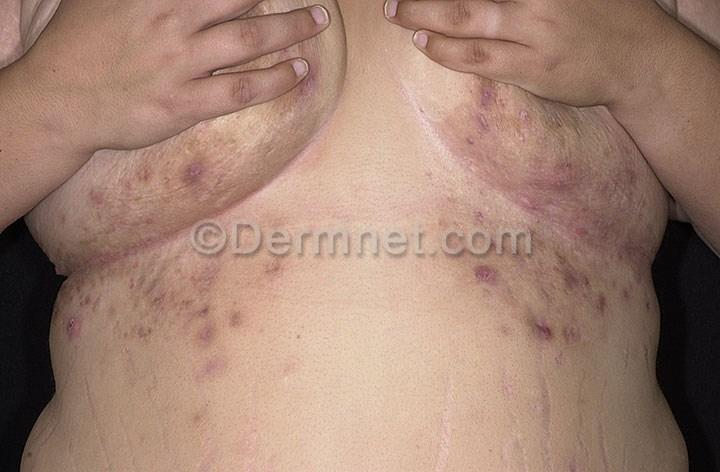Acne: (84, 287, 234, 401), (467, 221, 585, 364), (557, 119, 667, 257), (472, 101, 565, 198), (181, 121, 253, 199), (79, 184, 138, 216)
